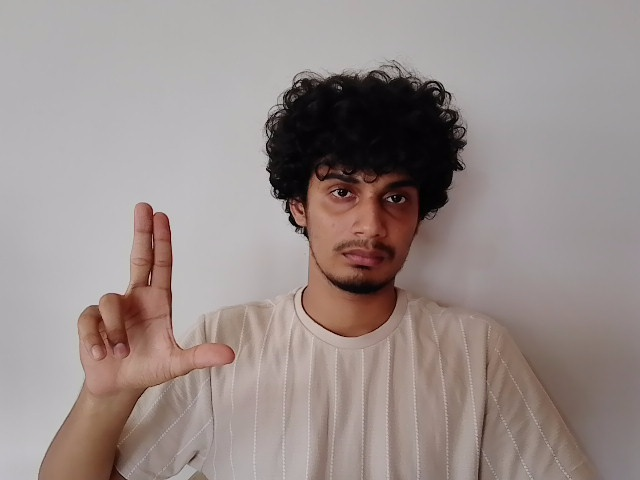no: (72, 200, 234, 388)
